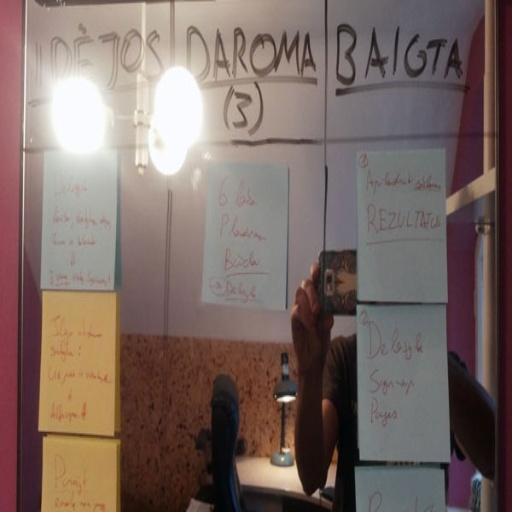hand: (292, 275, 330, 354)
